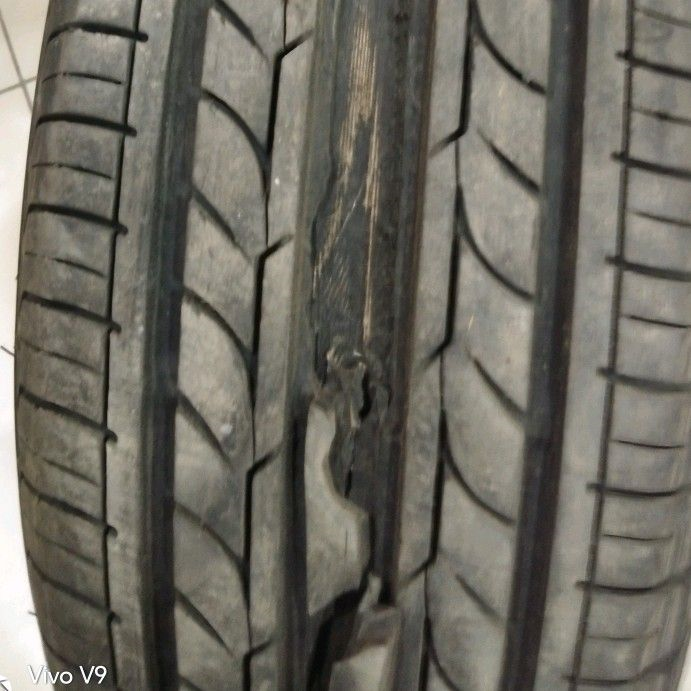tr: (308, 330, 396, 502)
